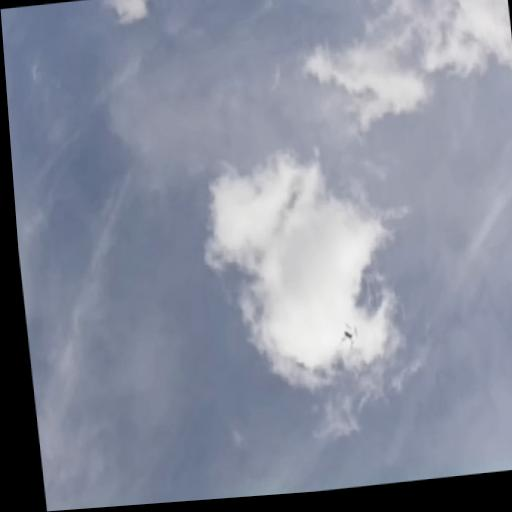drones: (335, 318, 359, 353)
